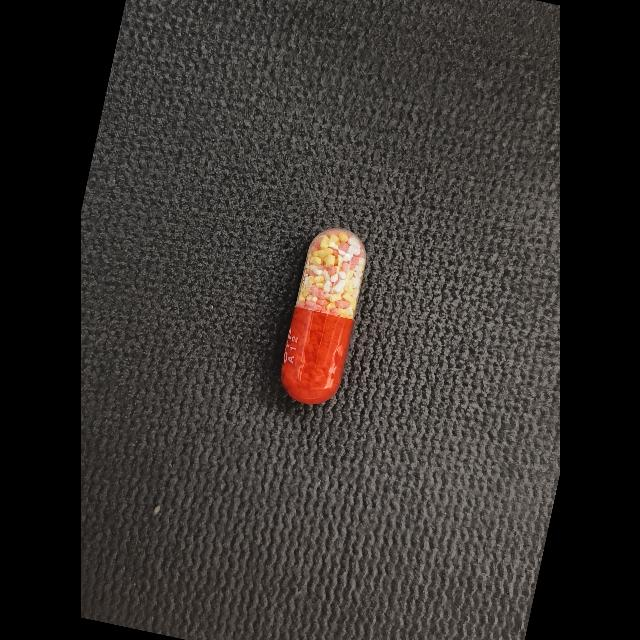Intact Capsule: (280, 228, 366, 404)
